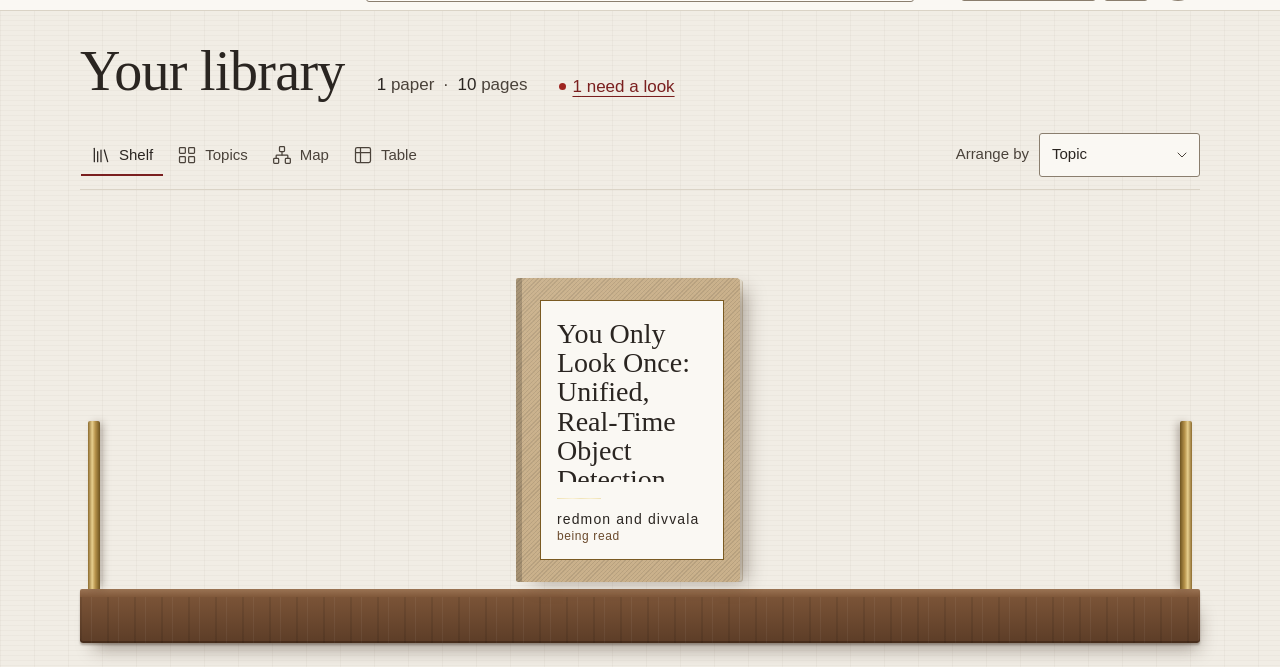
Scenario: library rows from the API (S1 shape) › step 1 is "Reading the PDF - step 1 of 3"
The image size is (1280, 667).
Click the button with aria-label "You Only Look Once: Unified, Real-Time Object Detection, Red" at (628, 430), box [516,278,740,582]
(page scrolled)
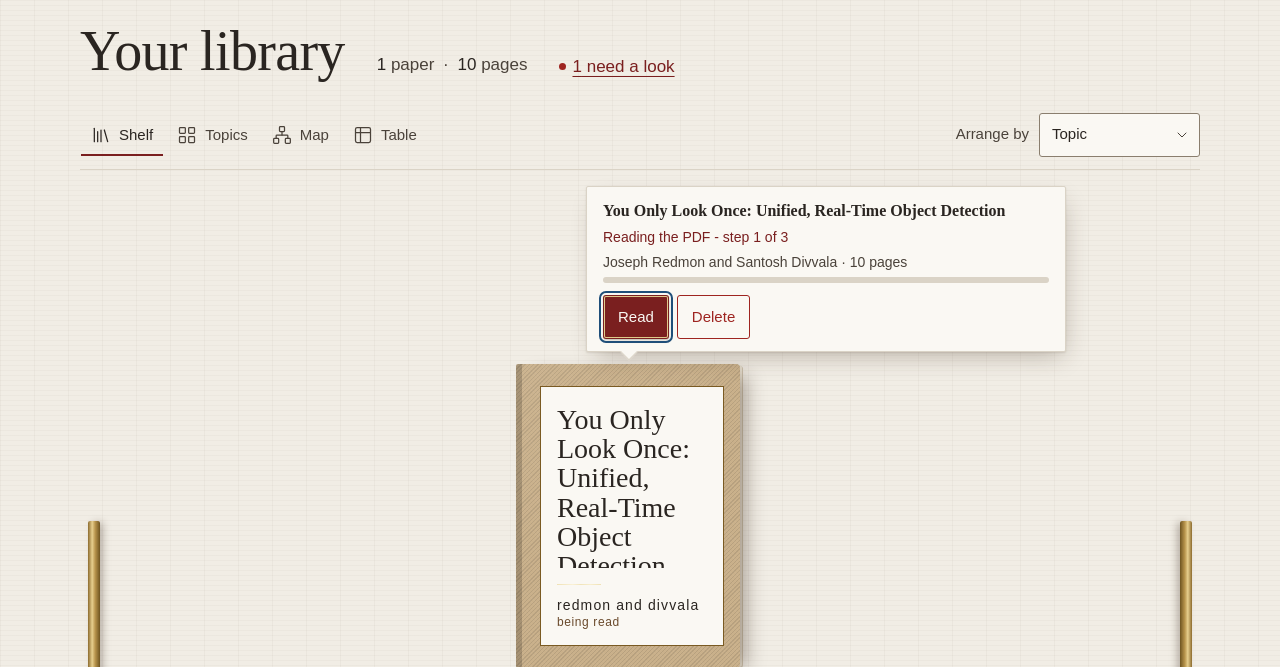
Check: the text "Reading the PDF - step 1 of 3" is shown, box [603,226,788,248]
